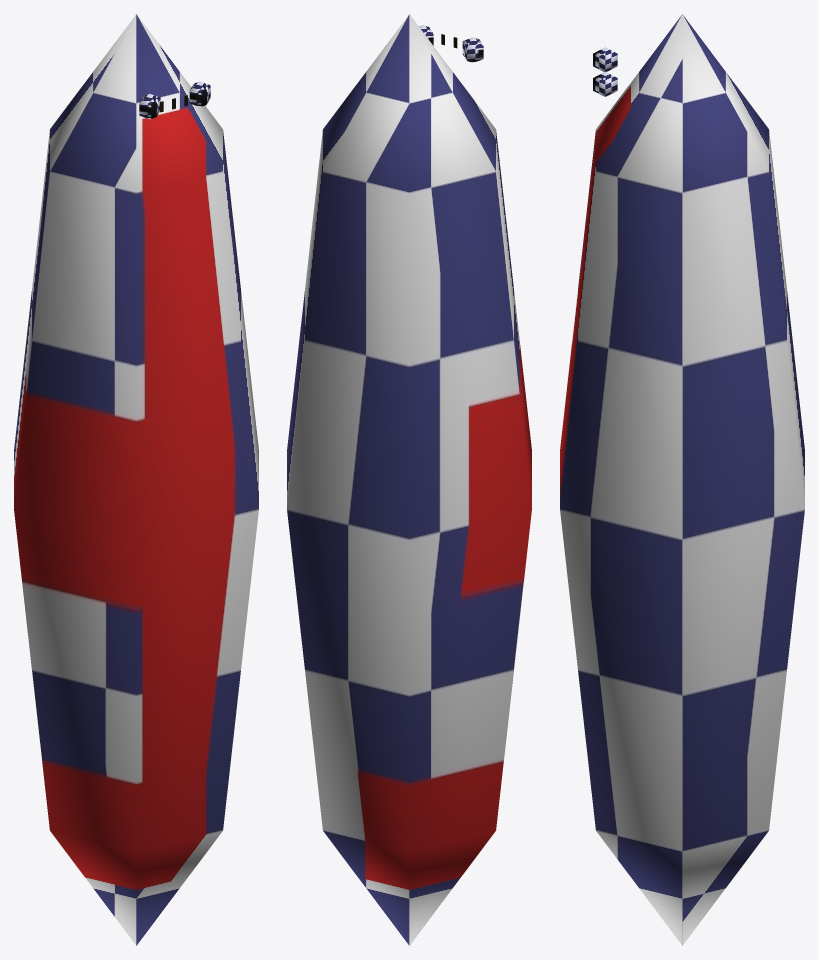
3 views of the same model, side by side, from view 1: azimuth 30°, elevation 25°; view 2: azimuth 150°, elevation 25°; view 3: azimuth 270°, elevation 25° (orthographic).
Parts seen in each view (by area): view 1: body; view 2: body; view 3: body.
Boxes of the visible parts, box(x1,y1,x2,y2) form: body: box(14, 14, 258, 945); body: box(287, 14, 531, 945); body: box(560, 14, 804, 945).
Size of the model in its own units: 0.44 by 1.6 by 0.3811.
Materials: 3 (3 with a texture image).
